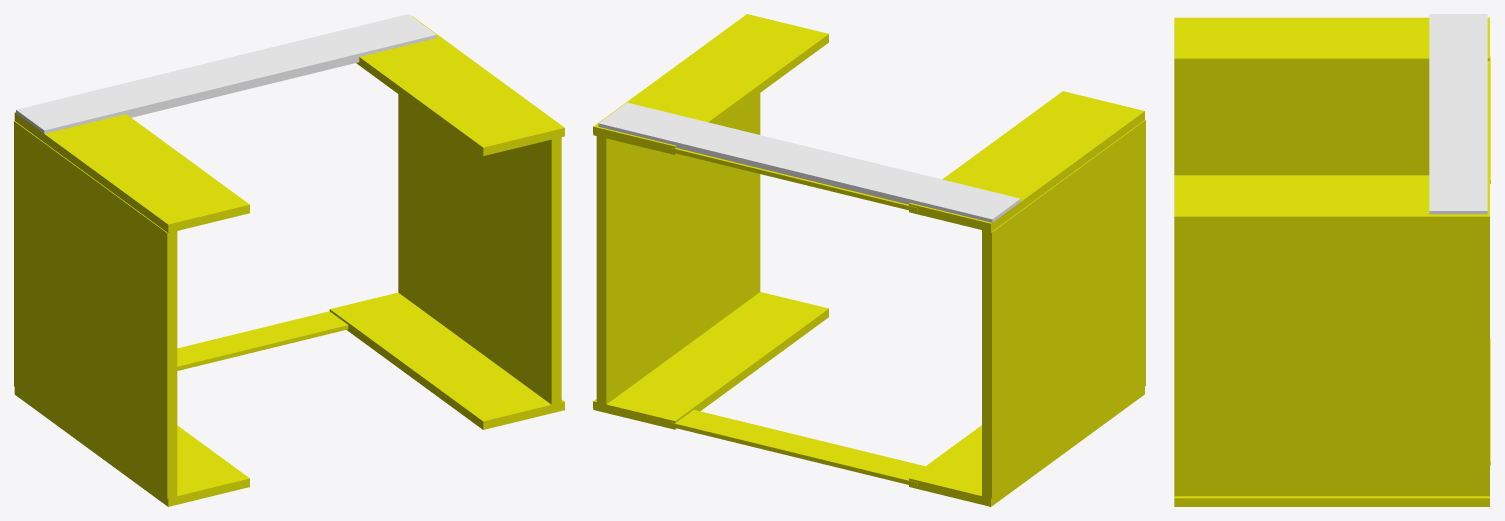
File: phongdoitau.fbx
3 renders of one model, left to right at view 1: azimuth 30°, elevation 25°; view 2: azimuth 150°, elevation 25°; view 3: azimuth 270°, elevation 25°, orthographic. The views are drawn at different scales.
Parts seen in each view (by area): view 1: imagetostl_mesh3, imagetostl_mesh4, imagetostl_mesh8, imagetostl_mesh6, imagetostl_mesh0, imagetostl_mesh1, imagetostl_mesh5, imagetostl_mesh7; view 2: imagetostl_mesh3, imagetostl_mesh4, imagetostl_mesh8, imagetostl_mesh6, imagetostl_mesh0, imagetostl_mesh1, imagetostl_mesh7, imagetostl_mesh5, imagetostl_mesh2; view 3: imagetostl_mesh4, imagetostl_mesh3, imagetostl_mesh1, imagetostl_mesh0, imagetostl_mesh8, imagetostl_mesh6, imagetostl_mesh2.
Boxes of the visible parts, x1,y1,x2,y2 form: imagetostl_mesh3: (14, 121, 177, 498); imagetostl_mesh4: (398, 94, 561, 404); imagetostl_mesh8: (16, 14, 436, 135); imagetostl_mesh6: (329, 292, 564, 429); imagetostl_mesh0: (14, 112, 249, 232); imagetostl_mesh1: (356, 15, 564, 155); imagetostl_mesh5: (14, 387, 249, 506); imagetostl_mesh7: (177, 311, 348, 370); imagetostl_mesh3: (982, 119, 1145, 498); imagetostl_mesh4: (596, 93, 760, 404); imagetostl_mesh8: (598, 102, 1020, 222); imagetostl_mesh6: (593, 292, 828, 429); imagetostl_mesh0: (909, 91, 1144, 232); imagetostl_mesh1: (593, 14, 828, 154); imagetostl_mesh7: (671, 410, 924, 486); imagetostl_mesh5: (909, 387, 1144, 506); imagetostl_mesh2: (671, 148, 917, 212); imagetostl_mesh4: (1174, 225, 1489, 496); imagetostl_mesh3: (1174, 67, 1429, 175); imagetostl_mesh1: (1174, 175, 1489, 225); imagetostl_mesh0: (1174, 17, 1489, 67); imagetostl_mesh8: (1429, 14, 1487, 214); imagetostl_mesh6: (1174, 496, 1489, 506); imagetostl_mesh2: (1487, 56, 1490, 183).
Bounding box in the file's own units: 2431 × 1670 × 1628.
